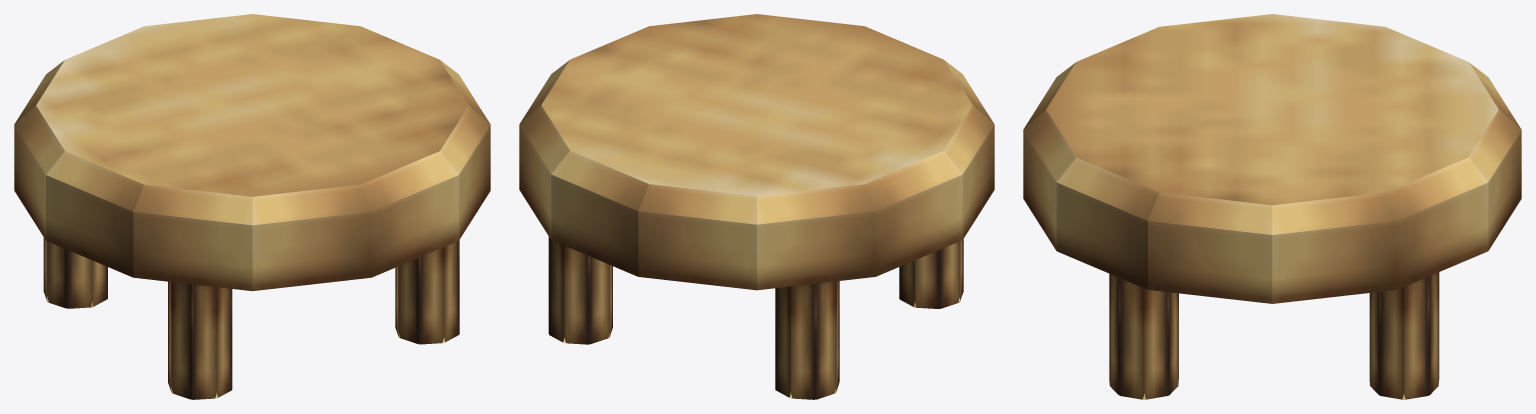
File: Inside_Poly_Chair_05.obj
3 renders of one model, left to right at view 1: azimuth 30°, elevation 25°; view 2: azimuth 150°, elevation 25°; view 3: azimuth 270°, elevation 25°, orthographic. The views are drawn at different scales.
Visible parts, largest first — view 1: Cube.001, Cube; view 2: Cube.001, Cube; view 3: Cube.001, Cube.
Part boxes in pixels (x1=…): Cube.001: x1=14, y1=14, x2=490, y2=291; Cube: x1=43, y1=237, x2=459, y2=399; Cube.001: x1=519, y1=14, x2=994, y2=290; Cube: x1=548, y1=236, x2=963, y2=399; Cube.001: x1=1023, y1=14, x2=1521, y2=303; Cube: x1=1109, y1=272, x2=1439, y2=399.
Size of the model in its own units: 0.6504 by 0.3135 by 0.6504.
Materials: 1 (1 with a texture image).
